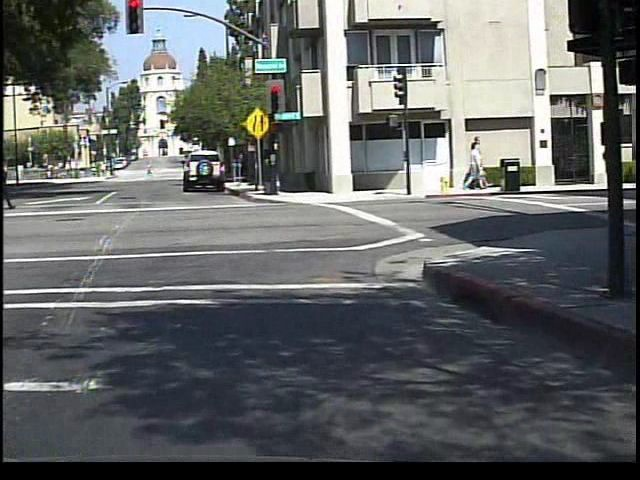person: (3, 169, 30, 228), (4, 159, 23, 213), (148, 161, 157, 178)
